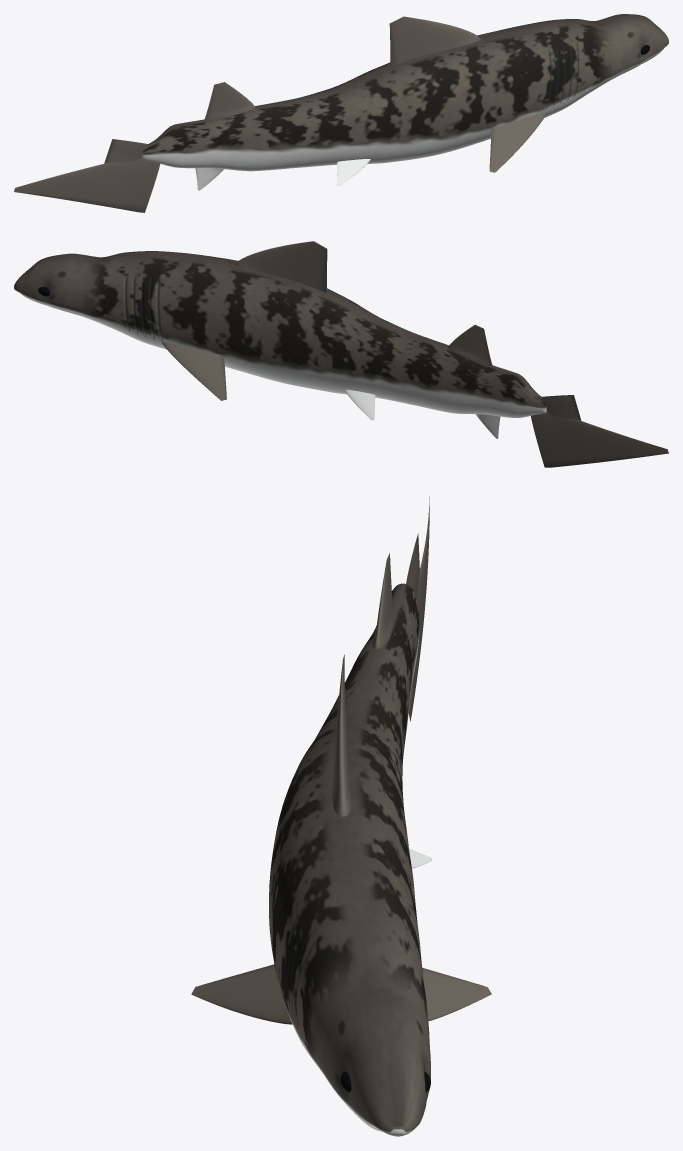
File: leopard_shark.glb
3 renders of one model, top to bottom at view 1: azimuth 30°, elevation 25°; view 2: azimuth 150°, elevation 25°; view 3: azimuth 270°, elevation 25°, orthographic. The views are drawn at different scales.
Visible parts, largest first — view 1: leopard_shark_Body, leopard_shark_Fins; view 2: leopard_shark_Body, leopard_shark_Fins; view 3: leopard_shark_Body, leopard_shark_Fins.
Part boxes in pixels (left/top/right/bottom): leopard_shark_Body: left=142, top=14, right=668, bottom=171; leopard_shark_Fins: left=14, top=16, right=547, bottom=212; leopard_shark_Body: left=14, top=251, right=546, bottom=417; leopard_shark_Fins: left=162, top=241, right=668, bottom=467; leopard_shark_Body: left=269, top=583, right=430, bottom=1136; leopard_shark_Fins: left=191, top=497, right=491, bottom=1024.
Size of the model in its own units: 1.3 by 0.288 by 0.2622.
Materials: 3 (1 with a texture image).
